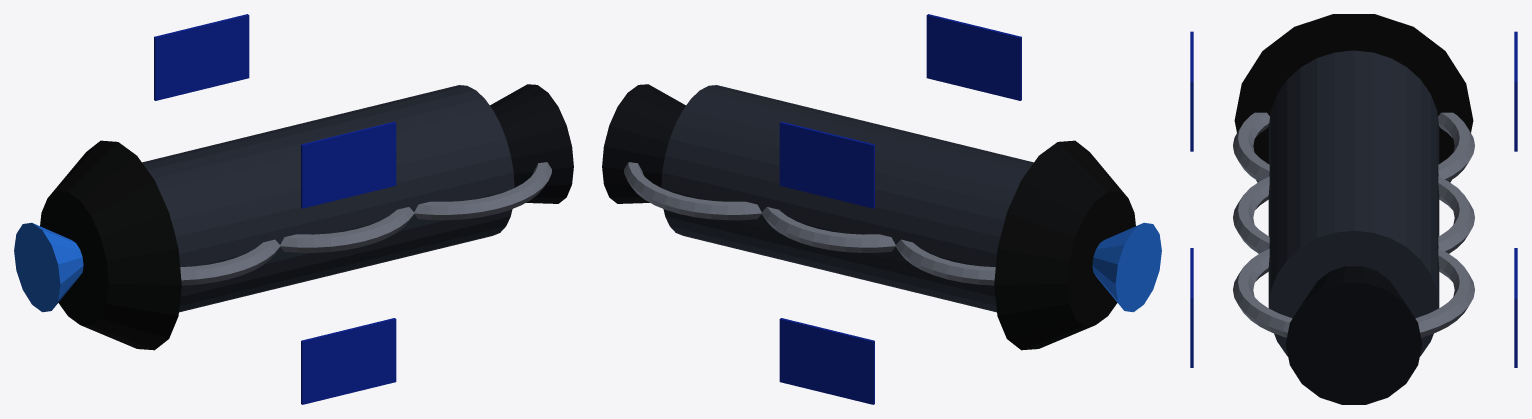
Rendered from generation_ship.glb.
3 views of the same model, side by side, from view 1: azimuth 30°, elevation 25°; view 2: azimuth 150°, elevation 25°; view 3: azimuth 270°, elevation 25° (orthographic). The views are drawn at different scales.
Visible parts, largest first — view 1: generation_ship; view 2: generation_ship; view 3: generation_ship.
Boxes of the visible parts, x1,y1,x2,y2 form: generation_ship: [14, 14, 573, 404]; generation_ship: [602, 14, 1161, 404]; generation_ship: [1190, 14, 1517, 404].
Size of the model in its own units: 1.9 by 0.9326 by 0.9679.
